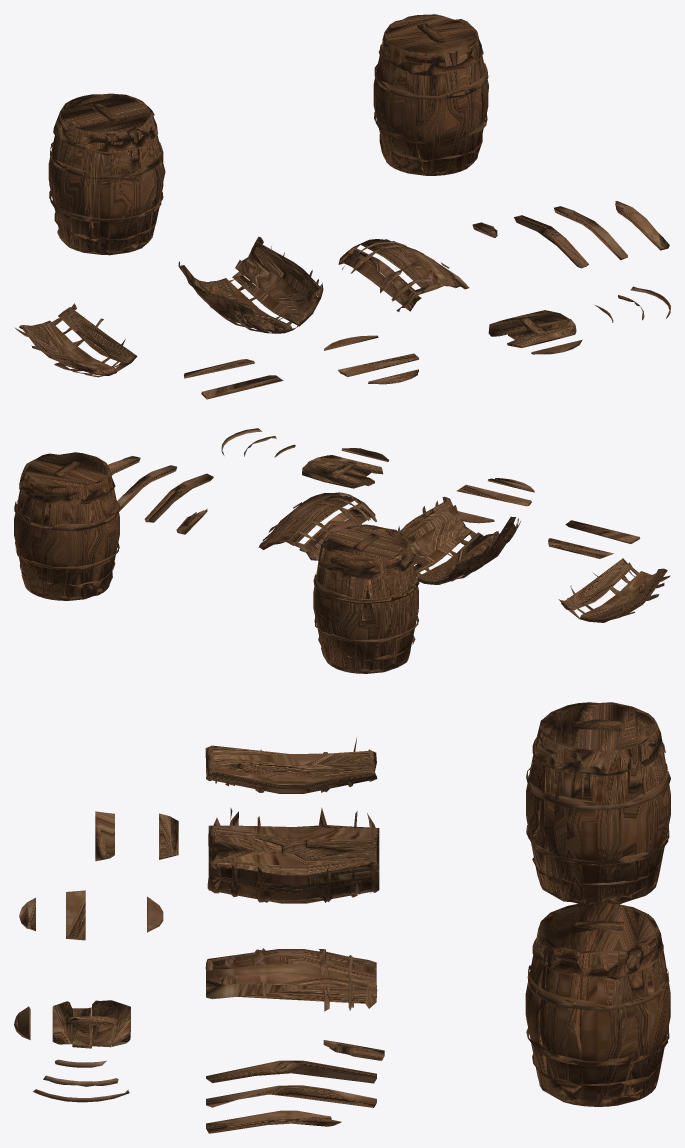
Rendered from wooden_barrels_01_lod1.glb.
3 views of the same model, one above another, from view 1: azimuth 30°, elevation 25°; view 2: azimuth 150°, elevation 25°; view 3: azimuth 270°, elevation 25° (orthographic). The views are drawn at different scales.
Visible parts, largest first — view 1: wooden_barrels_01_barrel02, wooden_barrels_01_barrel01, wooden_barrels_01_piece01, wooden_barrels_01_piece03, wooden_barrels_01_piece02, wooden_barrels_01_piece08, wooden_barrels_01_piece04, wooden_barrels_01_piece05, wooden_barrels_01_piece06, wooden_barrels_01_piece14, wooden_barrels_01_piece11; view 2: wooden_barrels_01_barrel02, wooden_barrels_01_barrel01, wooden_barrels_01_piece01, wooden_barrels_01_piece03, wooden_barrels_01_piece02, wooden_barrels_01_piece08, wooden_barrels_01_piece04, wooden_barrels_01_piece05, wooden_barrels_01_piece14, wooden_barrels_01_piece11, wooden_barrels_01_piece13; view 3: wooden_barrels_01_barrel01, wooden_barrels_01_barrel02, wooden_barrels_01_piece01, wooden_barrels_01_piece03, wooden_barrels_01_piece02, wooden_barrels_01_piece08, wooden_barrels_01_piece04, wooden_barrels_01_piece05, wooden_barrels_01_piece06, wooden_barrels_01_piece11, wooden_barrels_01_piece14, wooden_barrels_01_piece13 (+1 smaller).
Boxes of the visible parts, <box> form: wooden_barrels_01_barrel02: <box>48,93,165,255</box>; wooden_barrels_01_barrel01: <box>373,14,488,175</box>; wooden_barrels_01_piece01: <box>178,236,323,333</box>; wooden_barrels_01_piece03: <box>338,239,469,311</box>; wooden_barrels_01_piece02: <box>14,303,137,377</box>; wooden_barrels_01_piece08: <box>488,310,576,348</box>; wooden_barrels_01_piece04: <box>514,215,588,268</box>; wooden_barrels_01_piece05: <box>554,206,627,260</box>; wooden_barrels_01_piece06: <box>615,201,669,250</box>; wooden_barrels_01_piece14: <box>201,375,283,399</box>; wooden_barrels_01_piece11: <box>338,353,418,376</box>; wooden_barrels_01_barrel02: <box>313,524,419,673</box>; wooden_barrels_01_barrel01: <box>14,452,119,600</box>; wooden_barrels_01_piece01: <box>398,496,520,584</box>; wooden_barrels_01_piece03: <box>258,492,376,560</box>; wooden_barrels_01_piece02: <box>558,558,670,622</box>; wooden_barrels_01_piece08: <box>302,455,383,488</box>; wooden_barrels_01_piece04: <box>144,473,213,522</box>; wooden_barrels_01_piece05: <box>117,465,176,511</box>; wooden_barrels_01_piece14: <box>565,520,640,543</box>; wooden_barrels_01_piece11: <box>456,484,531,506</box>; wooden_barrels_01_piece13: <box>548,538,613,558</box>; wooden_barrels_01_barrel01: <box>525,902,670,1106</box>; wooden_barrels_01_barrel02: <box>526,702,670,904</box>; wooden_barrels_01_piece01: <box>207,807,379,903</box>; wooden_barrels_01_piece03: <box>205,948,377,1011</box>; wooden_barrels_01_piece02: <box>205,738,377,793</box>; wooden_barrels_01_piece08: <box>52,1000,130,1048</box>; wooden_barrels_01_piece04: <box>206,1060,376,1083</box>; wooden_barrels_01_piece05: <box>206,1085,376,1107</box>; wooden_barrels_01_piece06: <box>206,1110,341,1133</box>; wooden_barrels_01_piece11: <box>66,890,85,940</box>; wooden_barrels_01_piece14: <box>95,811,114,861</box>; wooden_barrels_01_piece13: <box>159,813,178,859</box>.
Bounding box in the file's own units: 4.44 × 0.9499 × 3.34.
3 materials, 3 textured.
